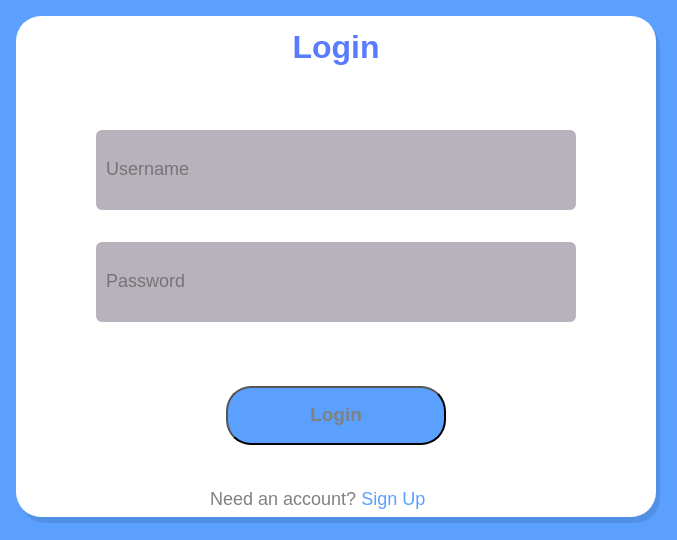
Test: displays error message when login fails
The width and height of the screenshot is (677, 540).
Type "test" into the field with placeholder "Username" at (306, 170), box top-left (96, 135), bottom-right (516, 205)
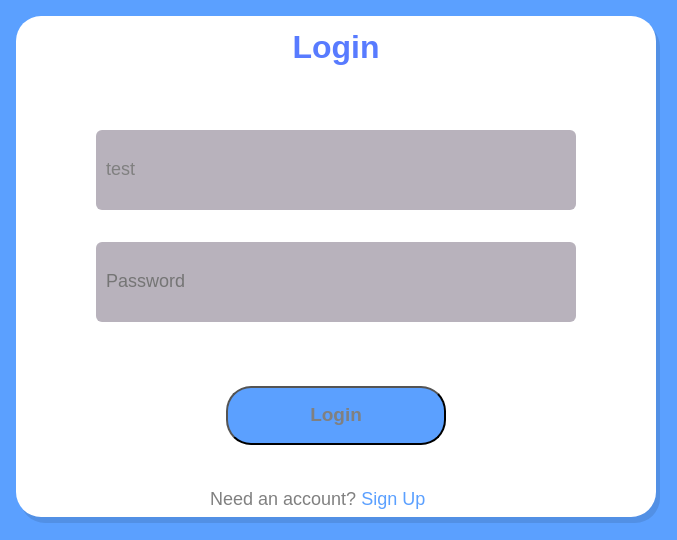
Type "wrongpassword" into the password field with placeholder "Password" at (306, 282), box top-left (96, 247), bottom-right (516, 317)
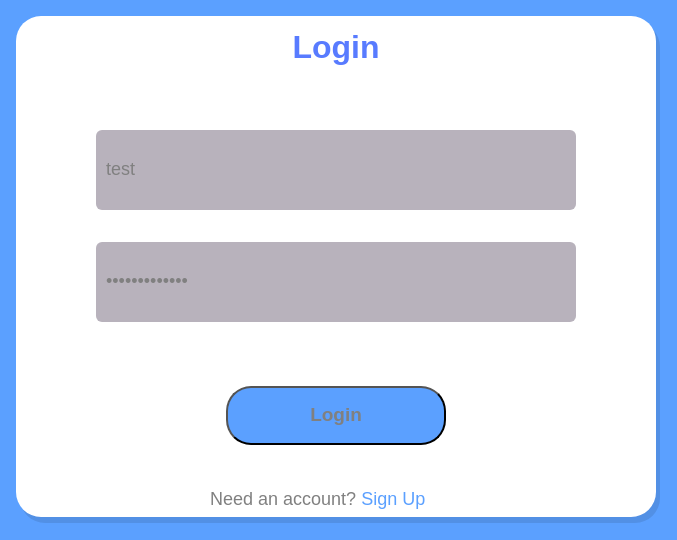
Click the button "Login" at (336, 415), box top-left (226, 386), bottom-right (446, 445)
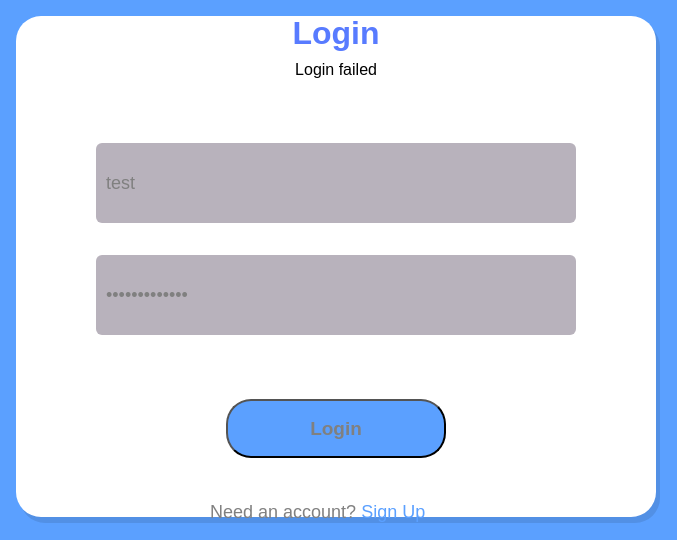
Expected: the text "Login failed" is shown, top-left (295, 61), bottom-right (377, 79)
